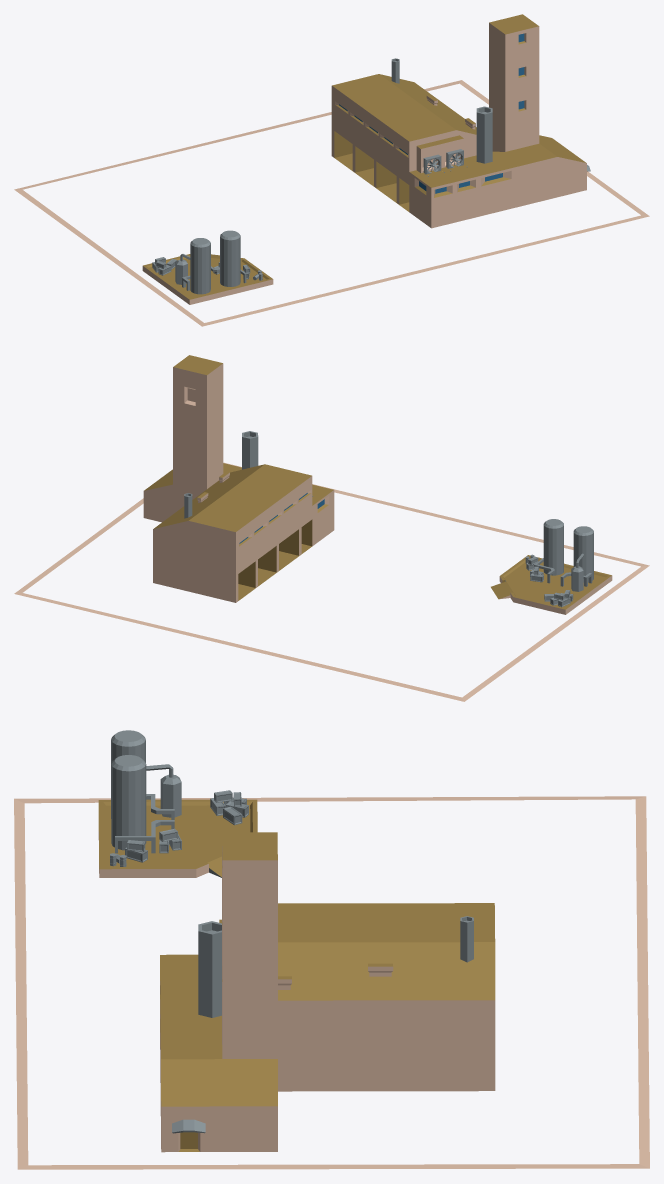
Rendered from FactoryForest _2.fbx.
The picture shows the model from 3 angles, top to bottom: view 1: azimuth 30°, elevation 25°; view 2: azimuth 150°, elevation 25°; view 3: azimuth 270°, elevation 25°; orthographic projection. The views are drawn at different scales.
Visible parts, largest first — view 1: Cube.001; view 2: Cube.001; view 3: Cube.001.
Boxes of the visible parts, box(x1,y1,x2,y2) form: Cube.001: box(14, 14, 649, 326); Cube.001: box(14, 355, 649, 701); Cube.001: box(14, 730, 649, 1169).
Size of the model in its own units: 1435 by 482 by 1036.
